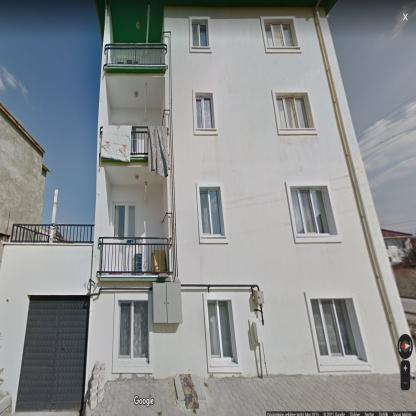door: (15, 296, 90, 410)
window: (311, 299, 361, 361), (115, 299, 149, 366), (290, 188, 331, 234), (207, 300, 235, 362), (276, 96, 310, 127), (200, 190, 222, 236), (112, 202, 136, 237), (265, 22, 294, 47), (196, 96, 213, 129), (192, 24, 207, 46)
